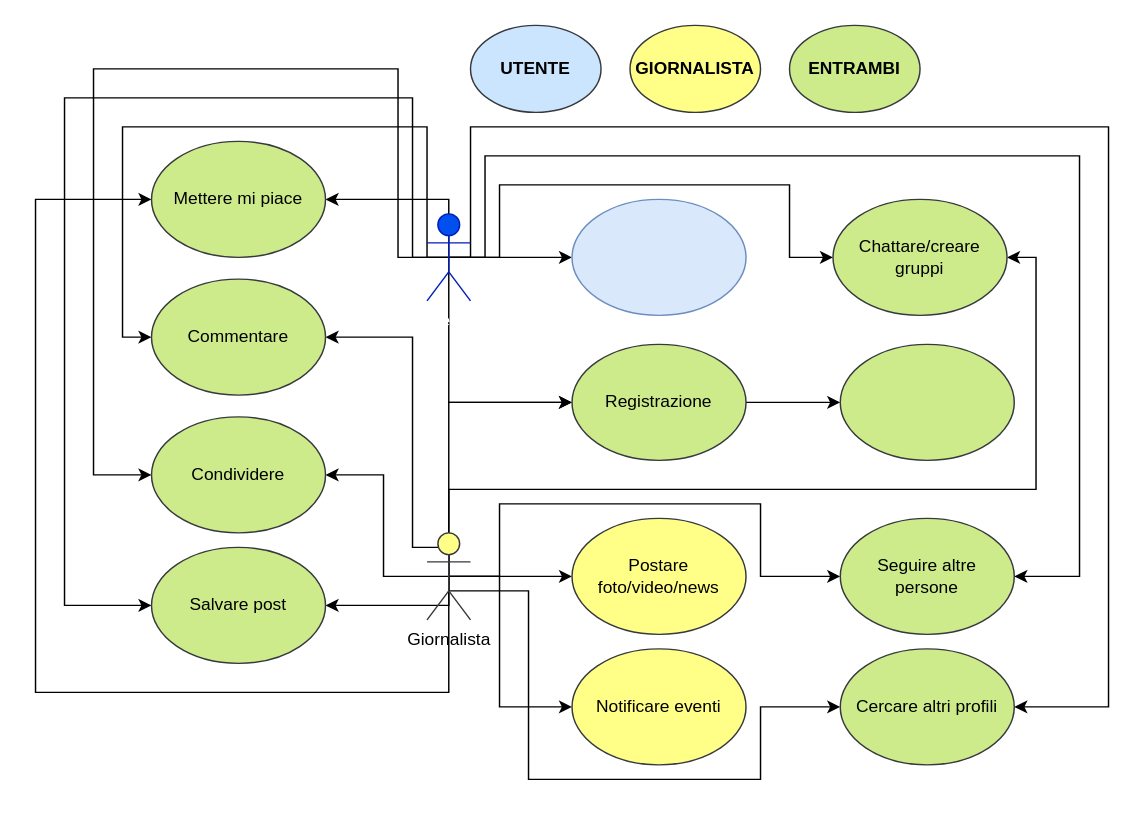
Some shapes in this 1146 by 816 pixel diagram are drawn without their labels. The shapes that lost their labels are listed below. From the top down, each one's centre as x and y in pixels, then its label:
the point at 658,256: Postare foto/video
the point at 926,401: Accedi
